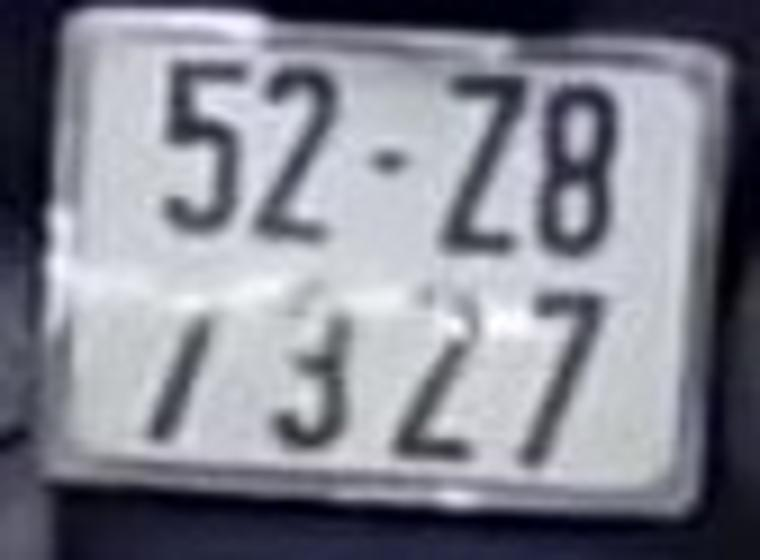-: (366, 144, 422, 181)
2: (388, 271, 494, 469), (252, 51, 353, 252)
3: (270, 281, 360, 457)
5: (161, 49, 248, 242)
7: (513, 276, 608, 481), (138, 292, 223, 448)
8: (540, 71, 630, 263)
Z: (439, 67, 531, 265)
